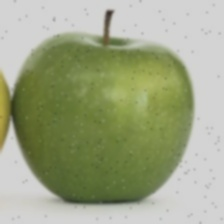apple: (41, 18, 211, 210)
